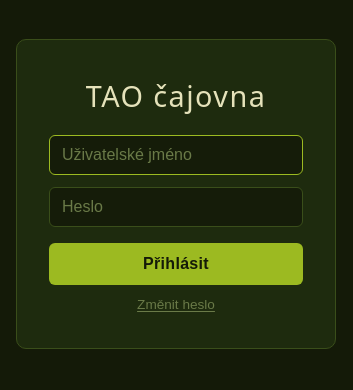
Login › zobrazí chybovou zprávu při neúspěšném přihlášení
Type "x" into the field with placeholder "Uživatelské jméno" at (176, 155), box [49,135,303,175]
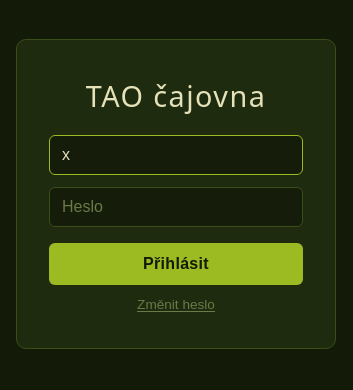
Type "y" into the password field with placeholder "Heslo" at (176, 207), box [49,187,303,227]
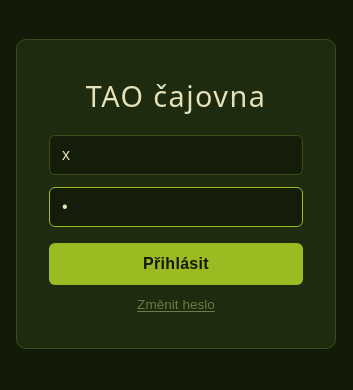
Click the button "Přihlásit" at (176, 264), box [49,243,303,285]
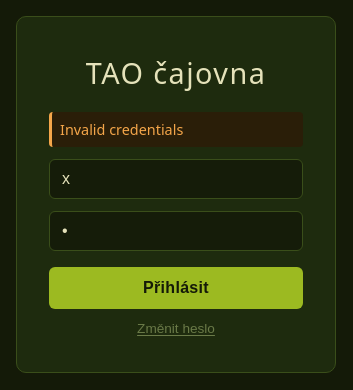
Now the message reads "Invalid credentials", box [60,120,183,138]
